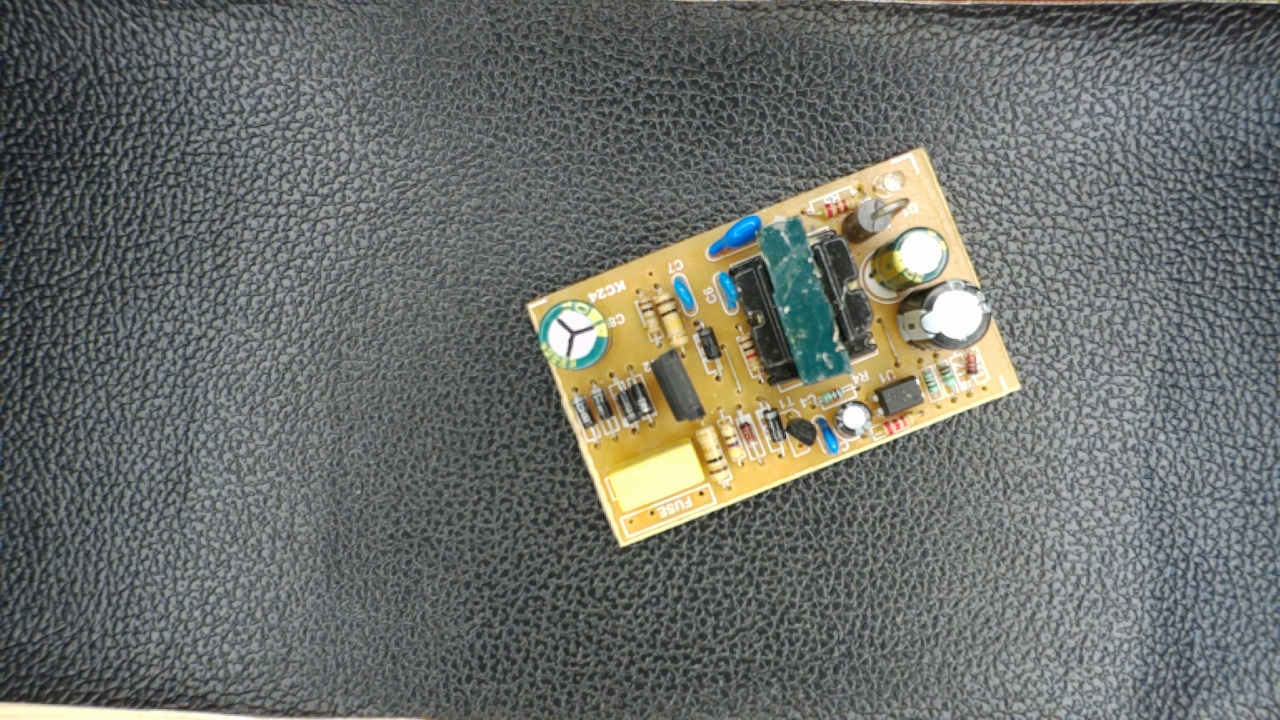hv_capacitor: (530, 299, 614, 369)
mov: (701, 216, 771, 260)
optocoupler: (864, 372, 930, 420)
